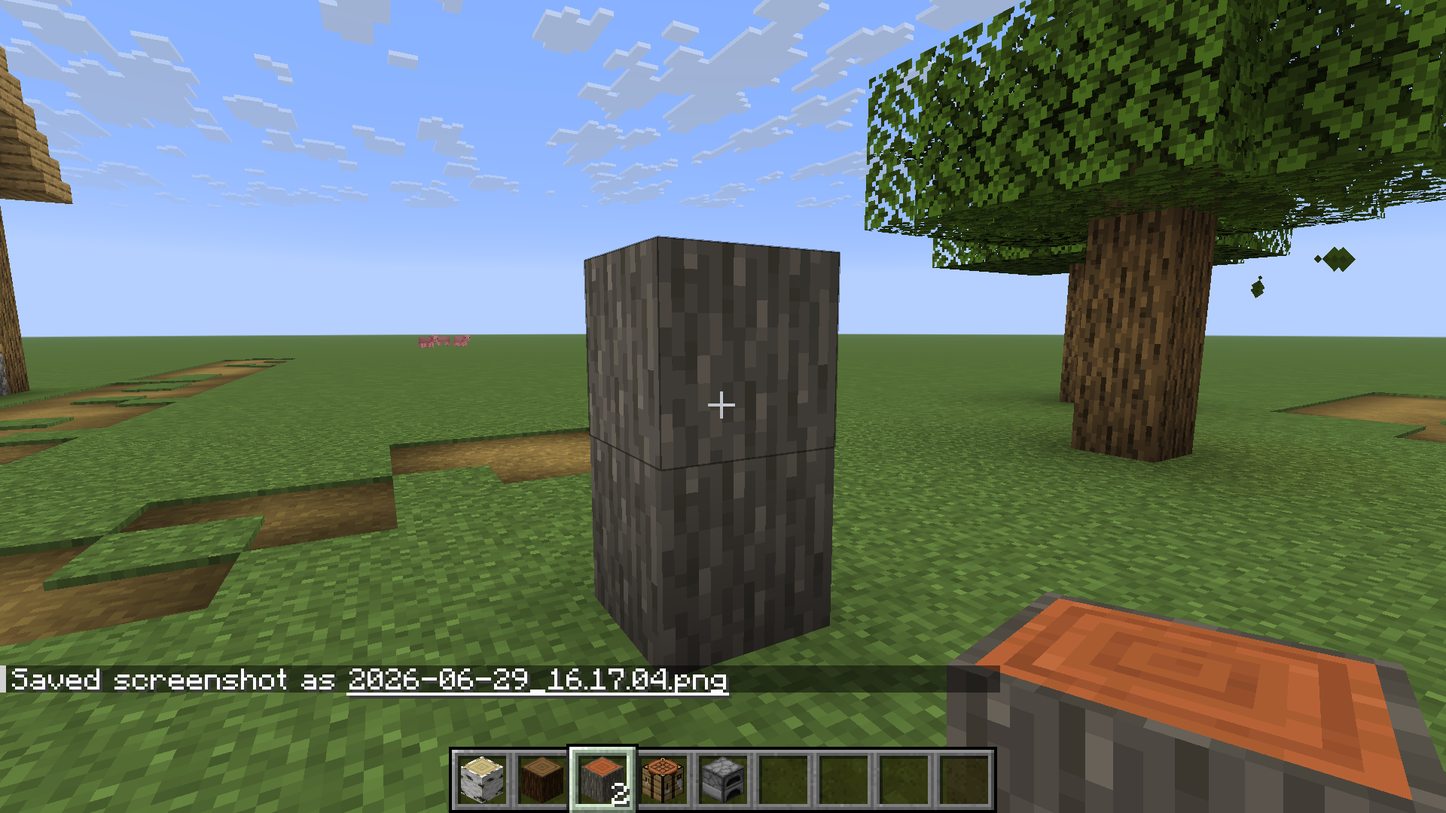Tree: (890, 0, 1445, 482)
wood 2: (962, 578, 1423, 810), (586, 237, 840, 467), (590, 442, 834, 666)
